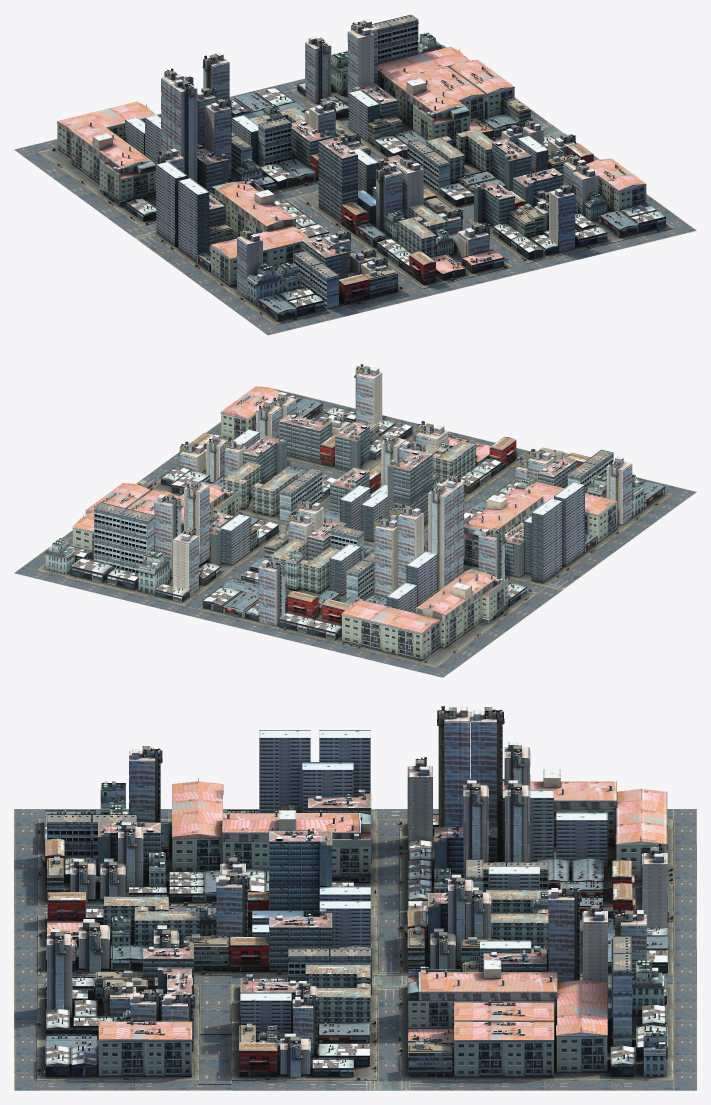
File: city.gltf
3 views of the same model, one above another, from view 1: azimuth 30°, elevation 25°; view 2: azimuth 150°, elevation 25°; view 3: azimuth 270°, elevation 25° (orthographic). The views are drawn at different scales.
Visible parts, largest first — view 1: area03_Baked, area01_Baked, area04_Baked, ground_Baked, area06_Baked, area02_Baked, area05_Baked; view 2: area06_Baked, area03_Baked, area04_Baked, ground_Baked, area01_Baked, area05_Baked, area02_Baked; view 3: ground_Baked, area04_Baked, area01_Baked, area03_Baked, area06_Baked, area02_Baked, area05_Baked.
Boxes of the visible parts, left/top/right/bottom form: area03_Baked: left=407, top=119, right=665, bottom=259; area01_Baked: left=156, top=161, right=398, bottom=320; area04_Baked: left=297, top=14, right=530, bottom=158; ground_Baked: left=14, top=45, right=696, bottom=335; area06_Baked: left=57, top=68, right=231, bottom=221; area02_Baked: left=318, top=135, right=504, bottom=284; area05_Baked: left=202, top=52, right=370, bottom=190; area06_Baked: left=307, top=475, right=526, bottom=660; area03_Baked: left=161, top=364, right=412, bottom=521; area04_Baked: left=45, top=478, right=279, bottom=602; ground_Baked: left=14, top=388, right=696, bottom=677; area01_Baked: left=427, top=447, right=664, bottom=583; area05_Baked: left=202, top=499, right=374, bottom=633; area02_Baked: left=324, top=421, right=516, bottom=541; ground_Baked: left=14, top=809, right=696, bottom=1090; area04_Baked: left=407, top=885, right=667, bottom=1076; area01_Baked: left=42, top=730, right=372, bottom=902; area03_Baked: left=45, top=929, right=371, bottom=1077; area06_Baked: left=407, top=706, right=668, bottom=903; area02_Baked: left=46, top=829, right=370, bottom=972; area05_Baked: left=404, top=844, right=668, bottom=972.
Bounding box in the file's own units: 52.68 × 13.72 × 54.01.
Materials: 7 (7 with a texture image).
